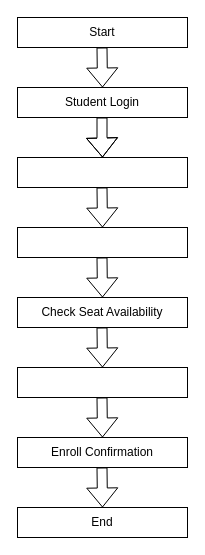
This 205x555 diagram has some shape labels left out. Each missing label, with the centre of its shape:
Make Payment: pixel 102 382
Search Course: pixel 102 172
Select Course: pixel 102 242
